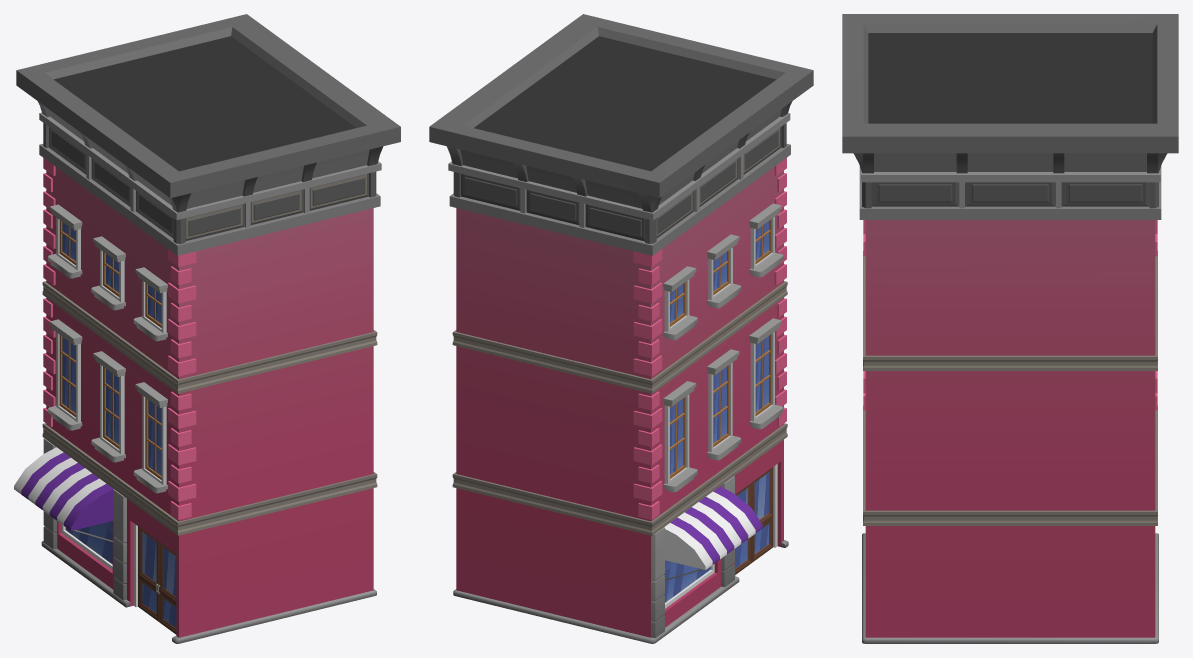
File: Building_8_2_H.fbx
3 views of the same model, side by side, from view 1: azimuth 30°, elevation 25°; view 2: azimuth 150°, elevation 25°; view 3: azimuth 270°, elevation 25° (orthographic). The views are drawn at different scales.
Visible parts, largest first — view 1: Building 8_2_H; view 2: Building 8_2_H; view 3: Building 8_2_H.
Part boxes in pixels (x1,y1,x2,y2): Building 8_2_H: (14,14,400,643); Building 8_2_H: (429,14,813,643); Building 8_2_H: (842,14,1178,643).
Bounding box in the file's own units: 720 × 1276 × 755.
